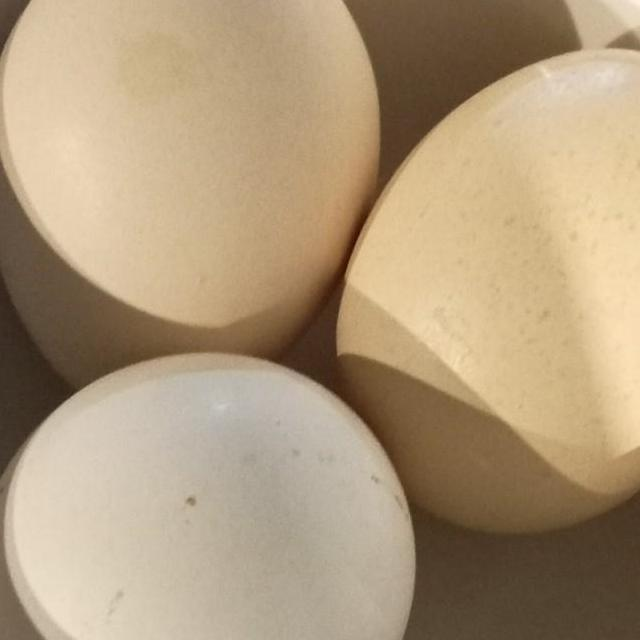trung: (0, 0, 394, 424), (323, 41, 640, 545), (0, 345, 427, 640)
